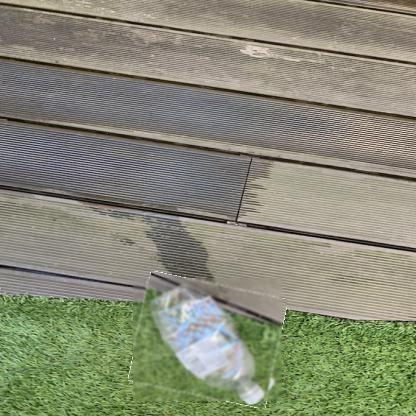plastic-bottles: (134, 278, 284, 402)
